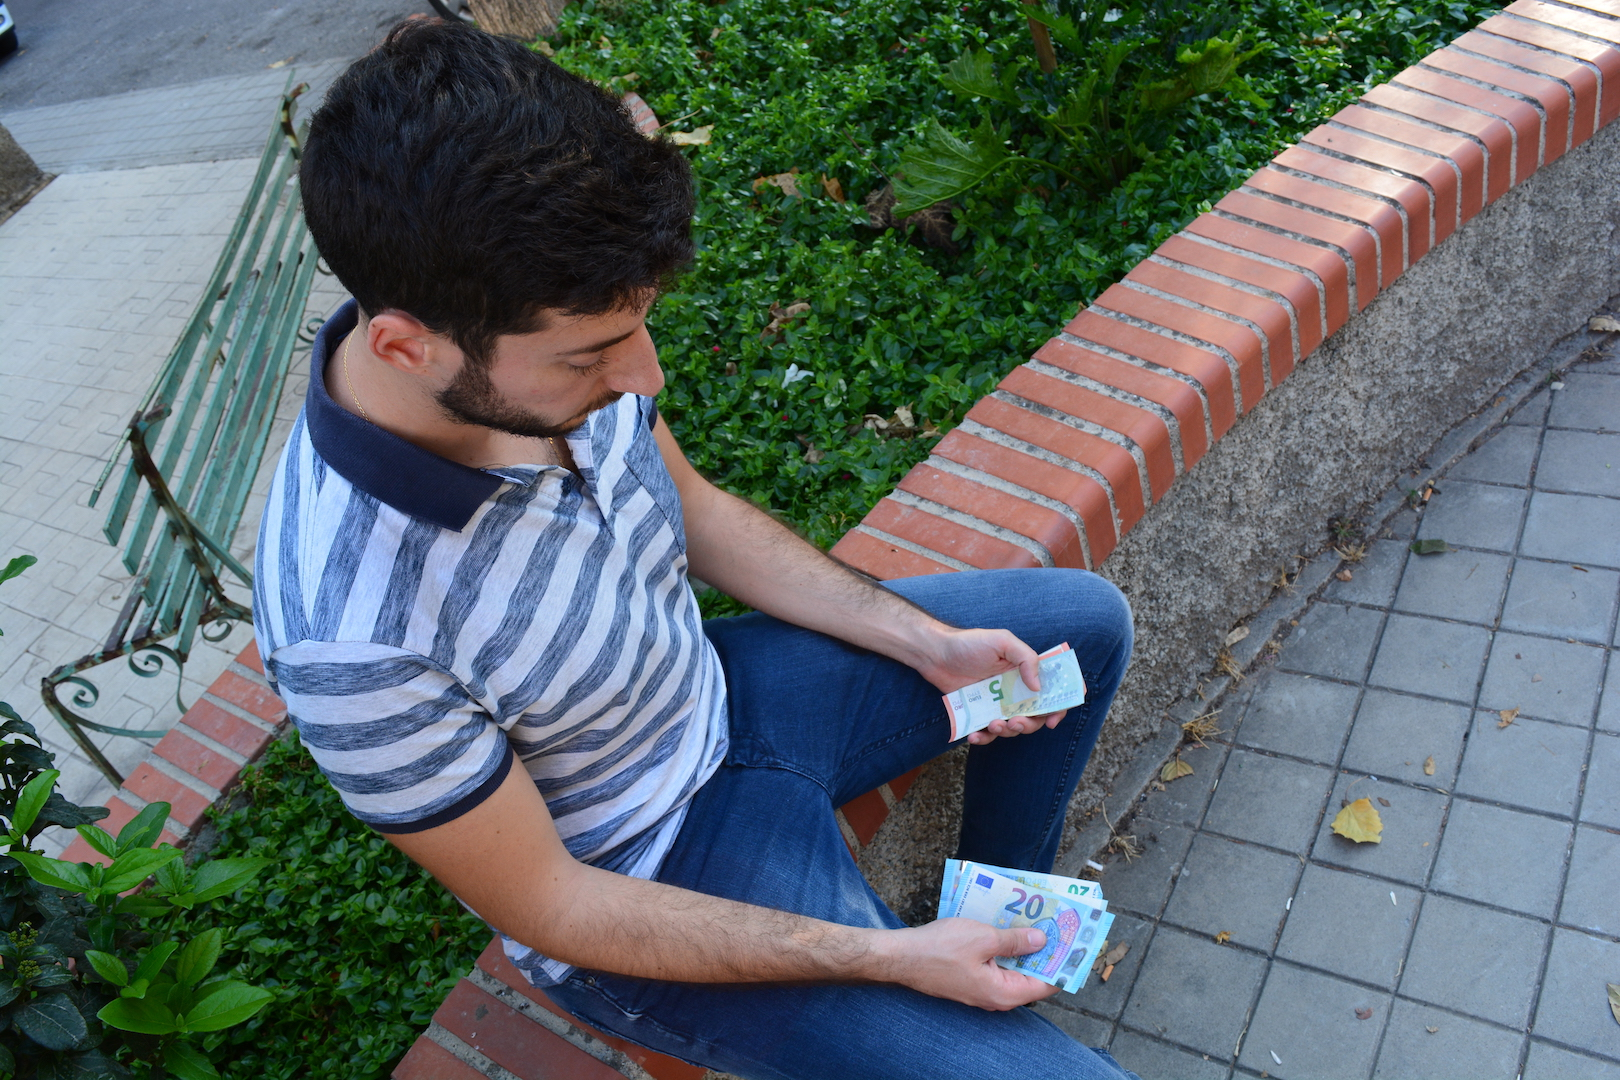billete: (935, 855, 1117, 994), (939, 638, 1090, 745)
